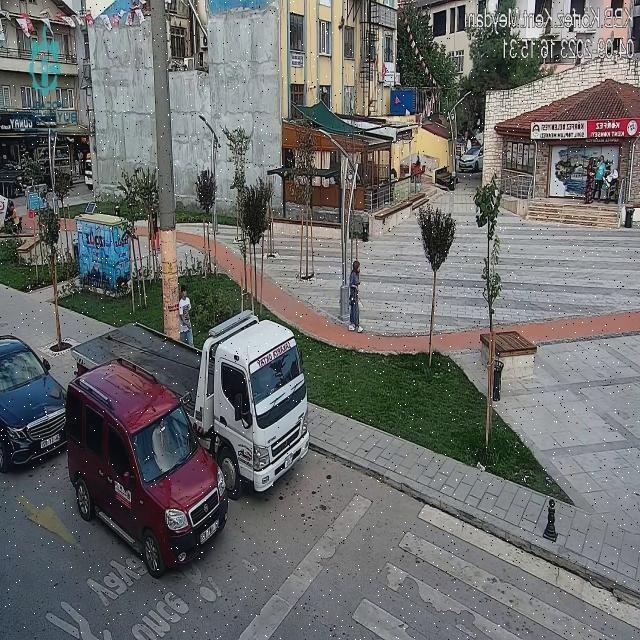Car: (53, 344, 232, 574), (0, 336, 72, 479)
Truck: (69, 314, 315, 492)
